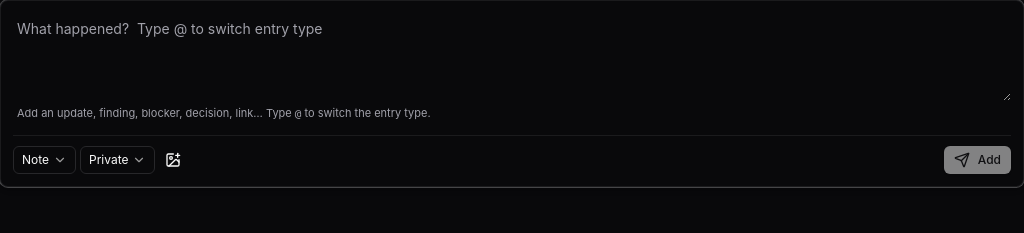
Composer › retains content and the local draft when saving fails
The width and height of the screenshot is (1024, 233).
In the text box with placeholder "What happened? Type @ to switch entry type": (512, 57) top-left (13, 13), bottom-right (1011, 101), type "Do not lose this"
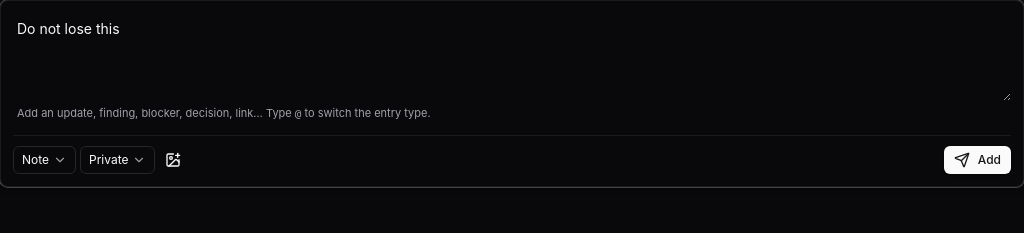
Press Enter in the text box with placeholder "What happened? Type @ to switch entry type", box top-left (13, 13), bottom-right (1011, 101)
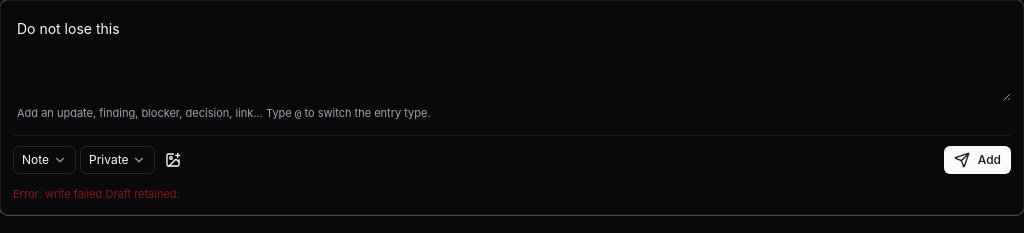
Now the text "Error: write failed Draft retained." is shown, box top-left (13, 186), bottom-right (180, 200)
